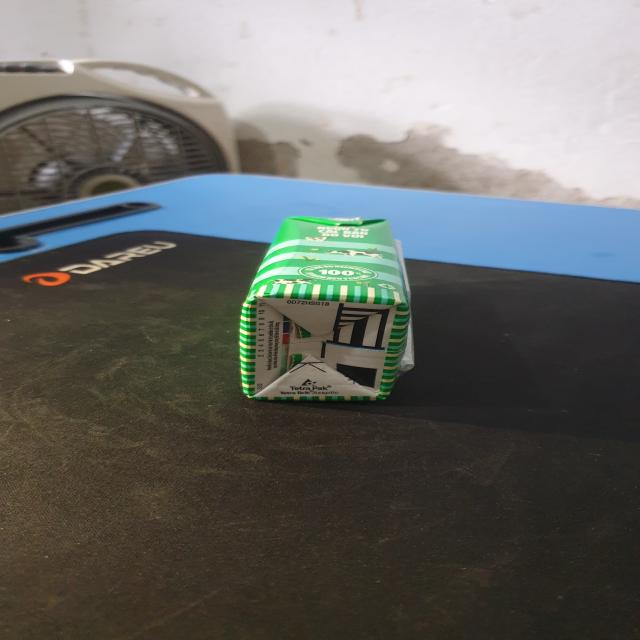Vina: (241, 216, 417, 405)
